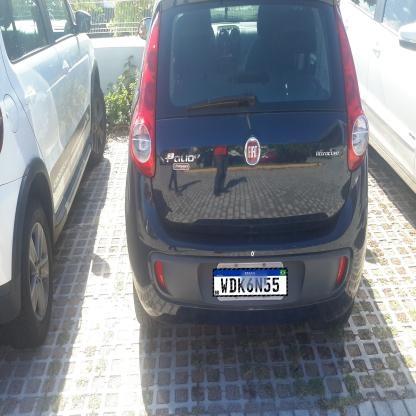PlacaM: (212, 268, 288, 297)
